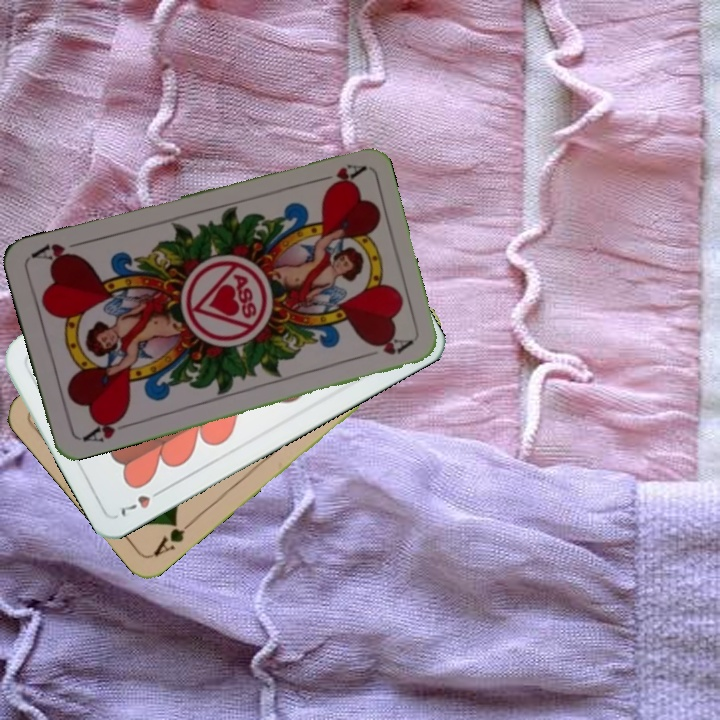GA: (149, 514, 198, 559)
H7: (116, 484, 168, 520)
HA: (78, 410, 134, 445), (307, 159, 366, 191)
